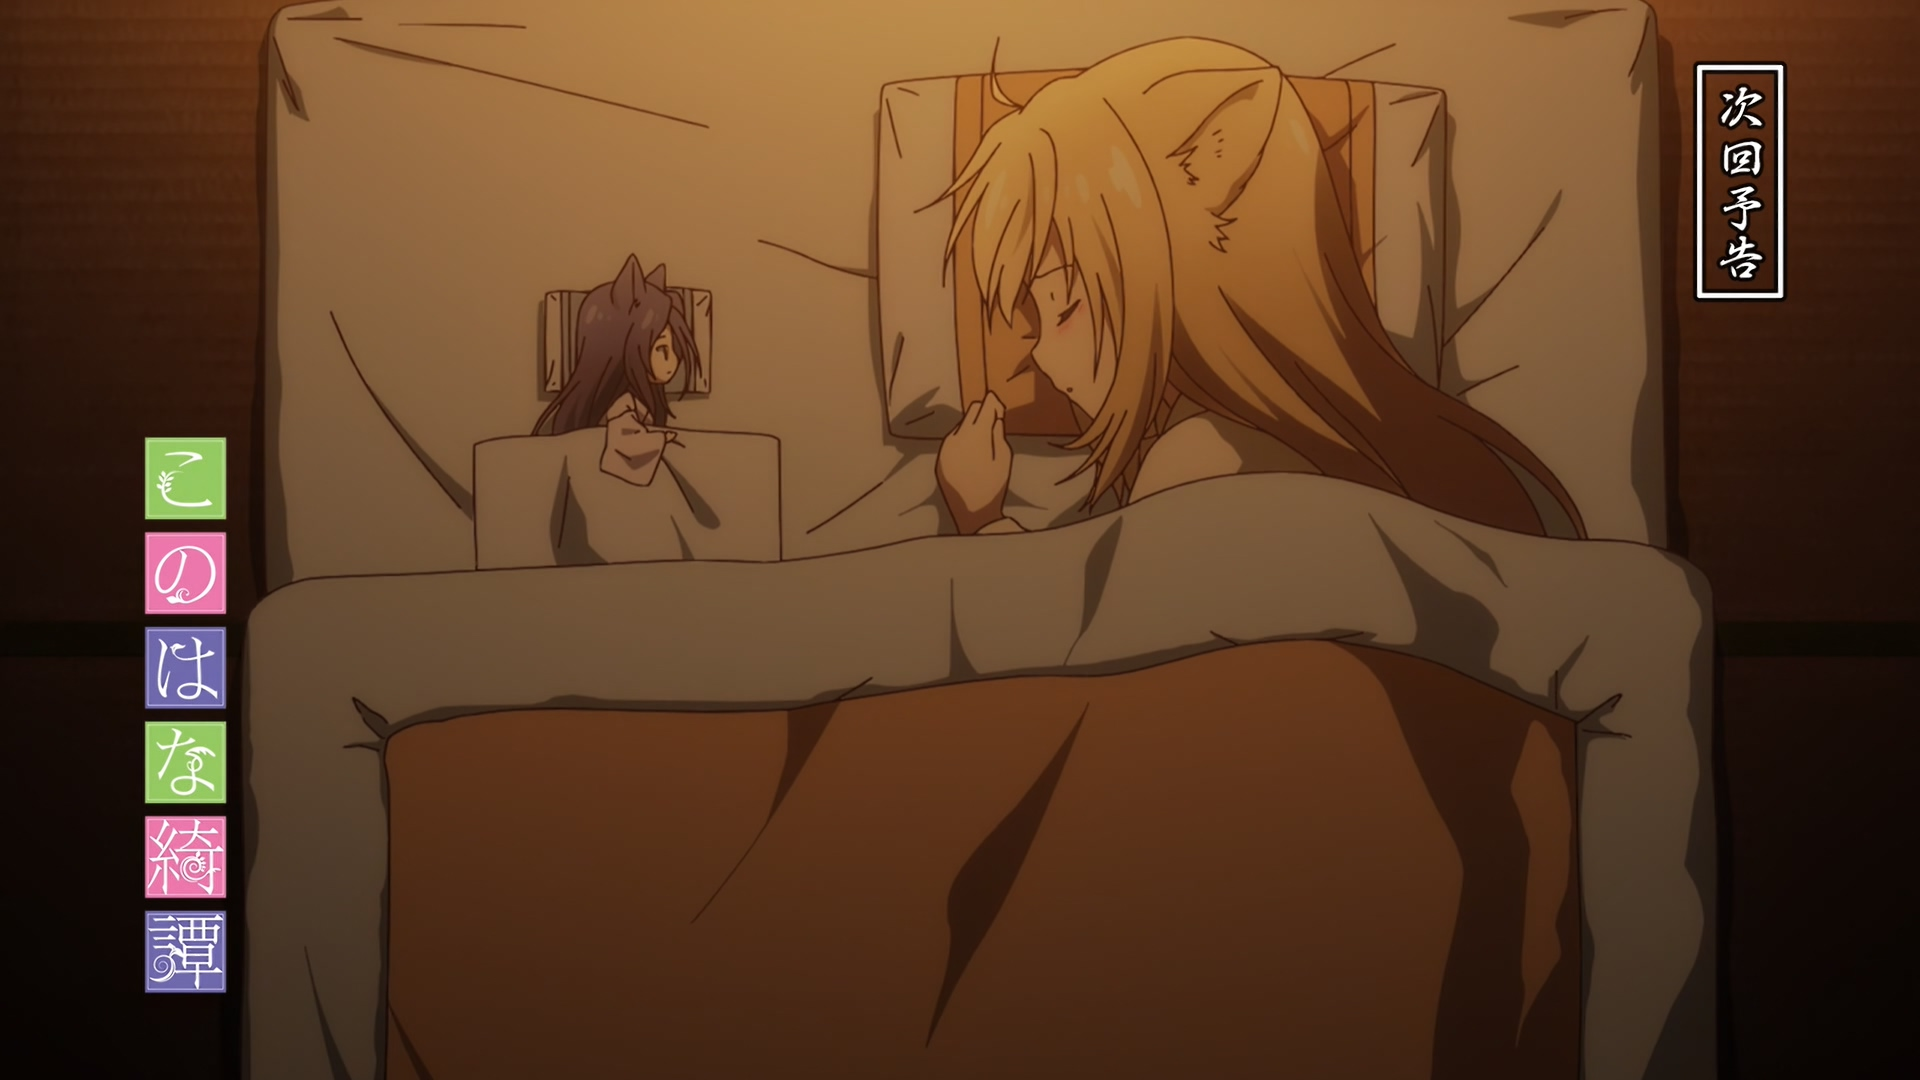柚: (913, 36, 1582, 538)
皋: (530, 256, 705, 483)
